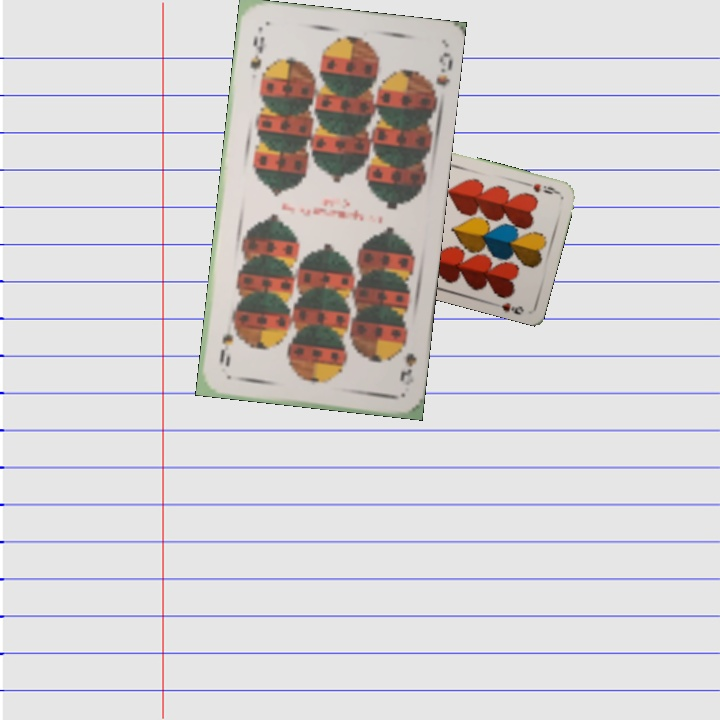H9: (521, 178, 561, 197)
S9: (394, 333, 419, 384), (246, 31, 267, 73)
